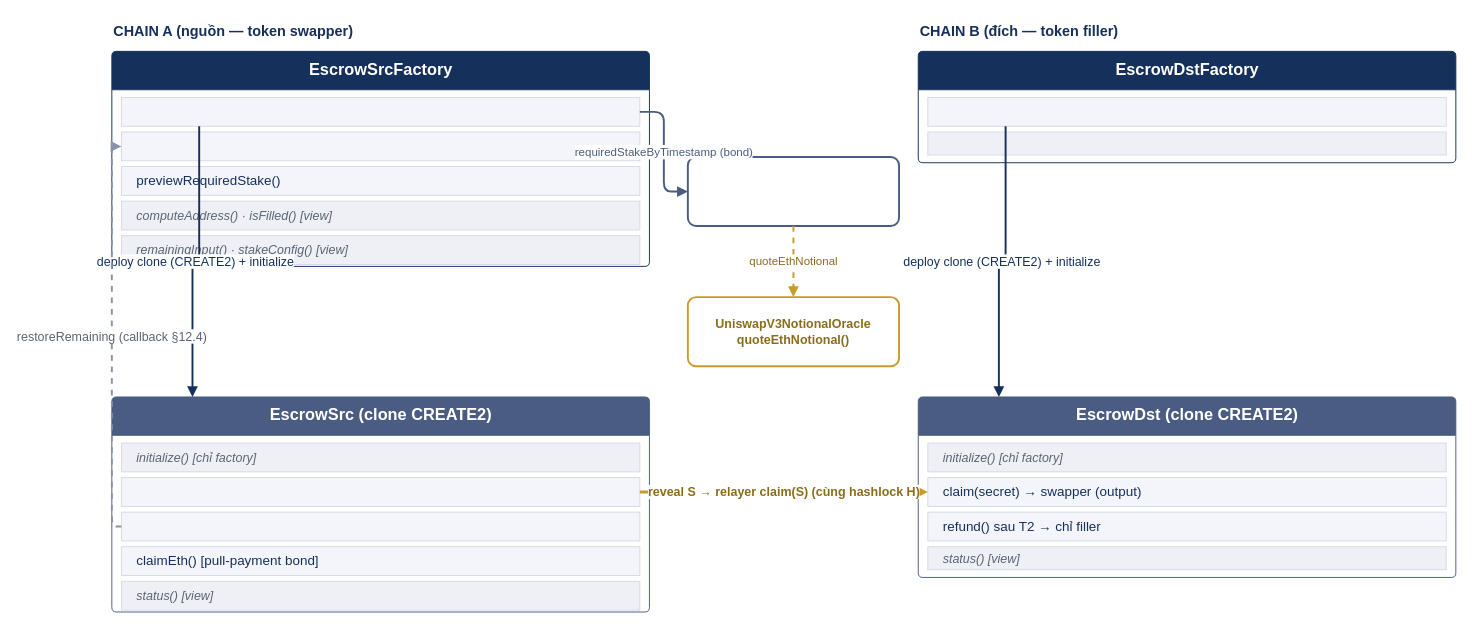
Some shapes in this 1473 by 629 pixel diagram are drawn without their labels. The centre of each missing label's shape, as x and y in pixels:
cancel() sau T1 → swapper (input + bond): point (380, 526)
computeAddress() [view]: point (1186, 143)
deploy(): point (1186, 111)
DynamicStakeLib requiredStakeByTimestamp(): point (793, 191)
fillSlot() payable: point (380, 111)
restoreRemaining(): point (380, 146)
withdraw(secret) → filler (input + bond), LỘ S: point (380, 491)
